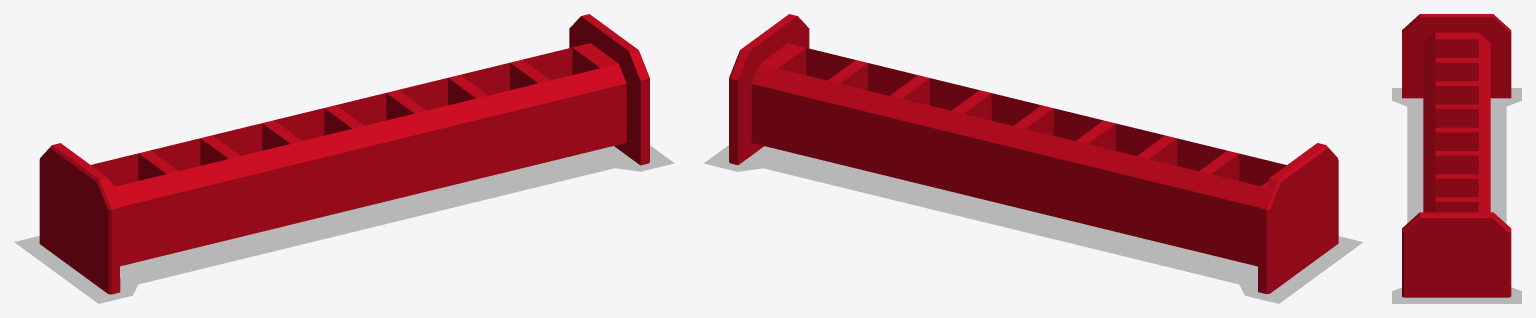
The model's file is Cuvette_rack.fbx.
3 views of the same model, side by side, from view 1: azimuth 30°, elevation 25°; view 2: azimuth 150°, elevation 25°; view 3: azimuth 270°, elevation 25° (orthographic). The views are drawn at different scales.
Parts seen in each view (by area): view 1: LOD0, Shadow; view 2: LOD0, Shadow; view 3: LOD0, Shadow.
Part boxes in pixels (x1=…): LOD0: x1=39, y1=14, x2=649, y2=294; Shadow: x1=14, y1=145, x2=674, y2=303; LOD0: x1=729, y1=14, x2=1338, y2=293; Shadow: x1=704, y1=145, x2=1362, y2=303; LOD0: x1=1402, y1=14, x2=1511, y2=297; Shadow: x1=1392, y1=88, x2=1521, y2=303.
Size of what is drawn, in the model's own units: 26.98 by 4.73 by 6.86.
